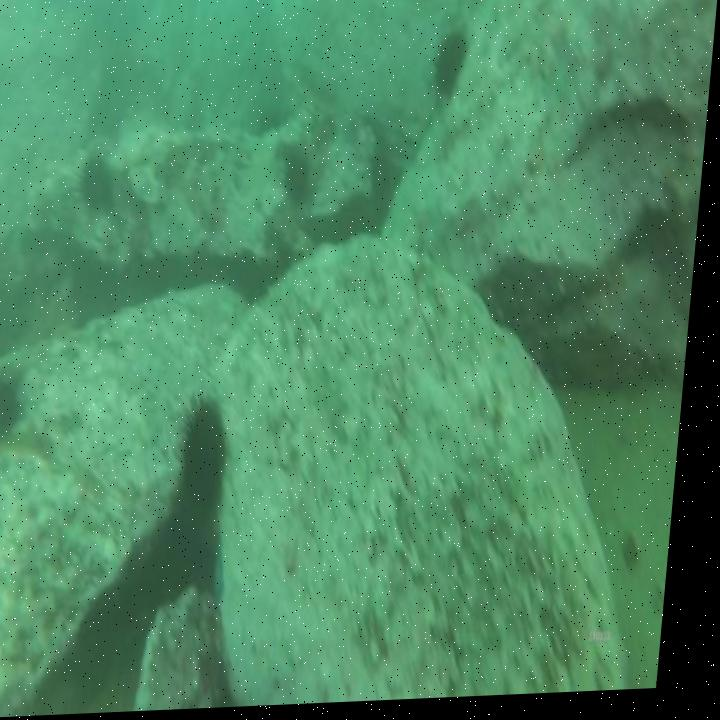echinus: (186, 410, 238, 515), (82, 161, 116, 215), (435, 37, 465, 98), (284, 154, 314, 206), (0, 379, 22, 439)
